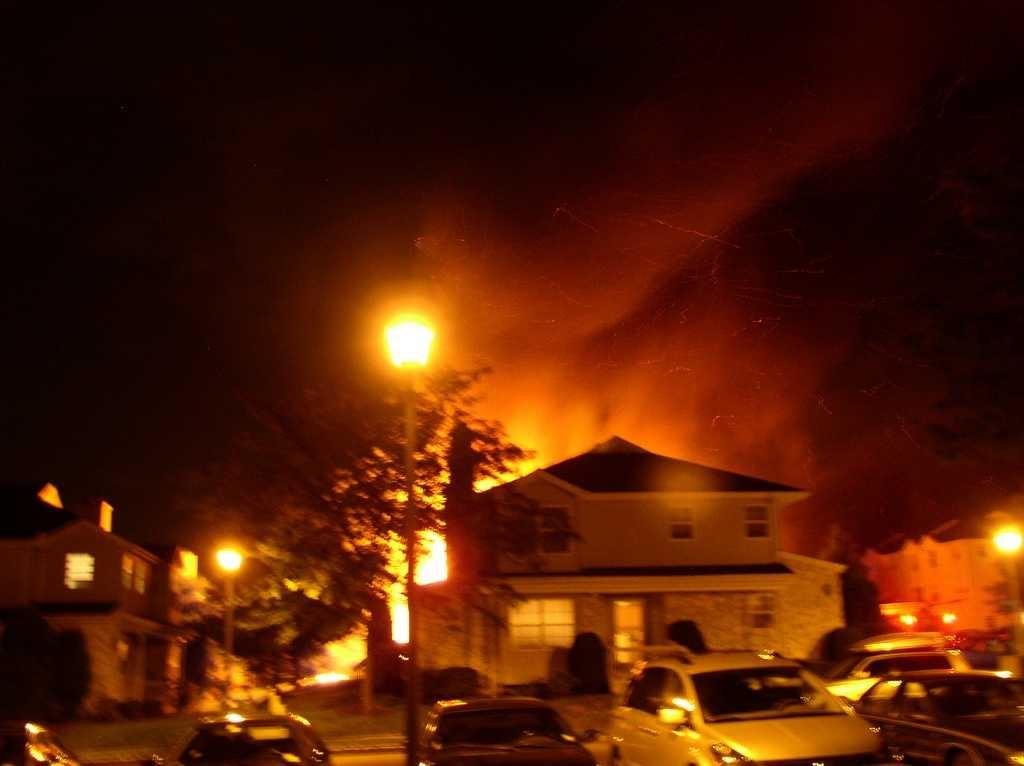fire: (497, 407, 701, 480), (384, 311, 459, 387)
